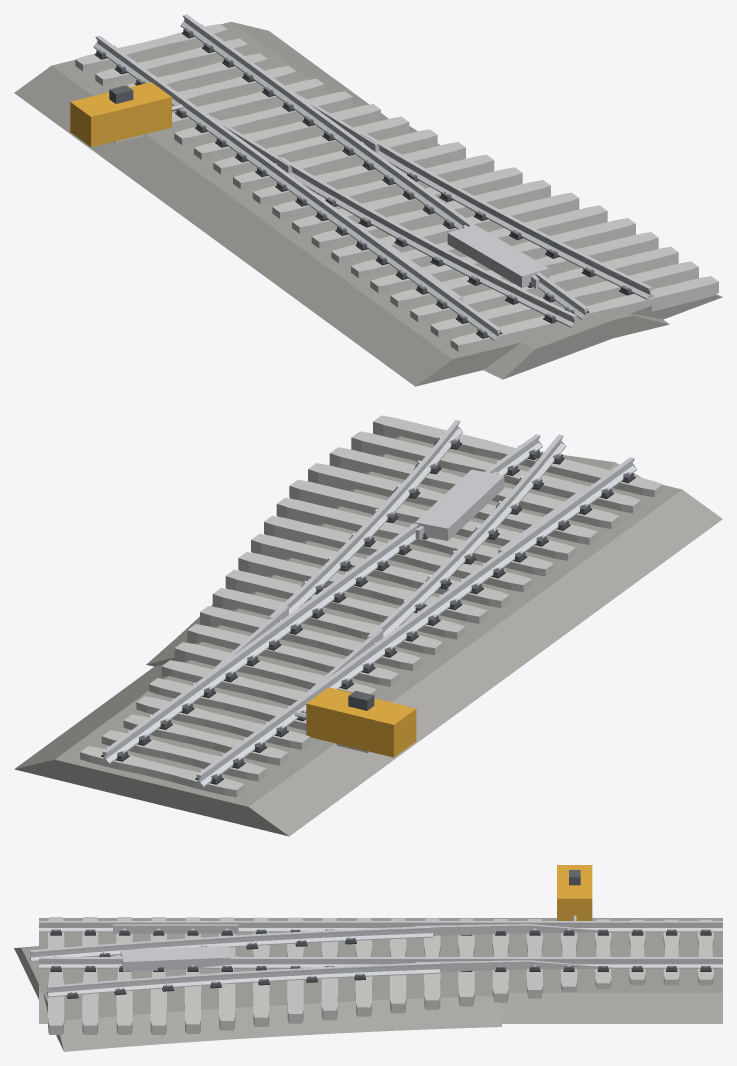
The model's file is modern-rail-and-metro-network-turnout-right-5c45dab6__13716.glb.
The picture shows the model from 3 angles, top to bottom: view 1: azimuth 30°, elevation 25°; view 2: azimuth 150°, elevation 25°; view 3: azimuth 270°, elevation 25°; orthographic projection. The views are drawn at different scales.
Parts seen in each view (by area): view 1: turnout-right; view 2: turnout-right; view 3: turnout-right.
Boxes of the visible parts, left/top/right/bottom form: turnout-right: left=14, top=14, right=722, bottom=386; turnout-right: left=14, top=415, right=722, bottom=836; turnout-right: left=14, top=865, right=722, bottom=1051.
Size of the model in its own units: 5.92 by 1.02 by 12.44.
